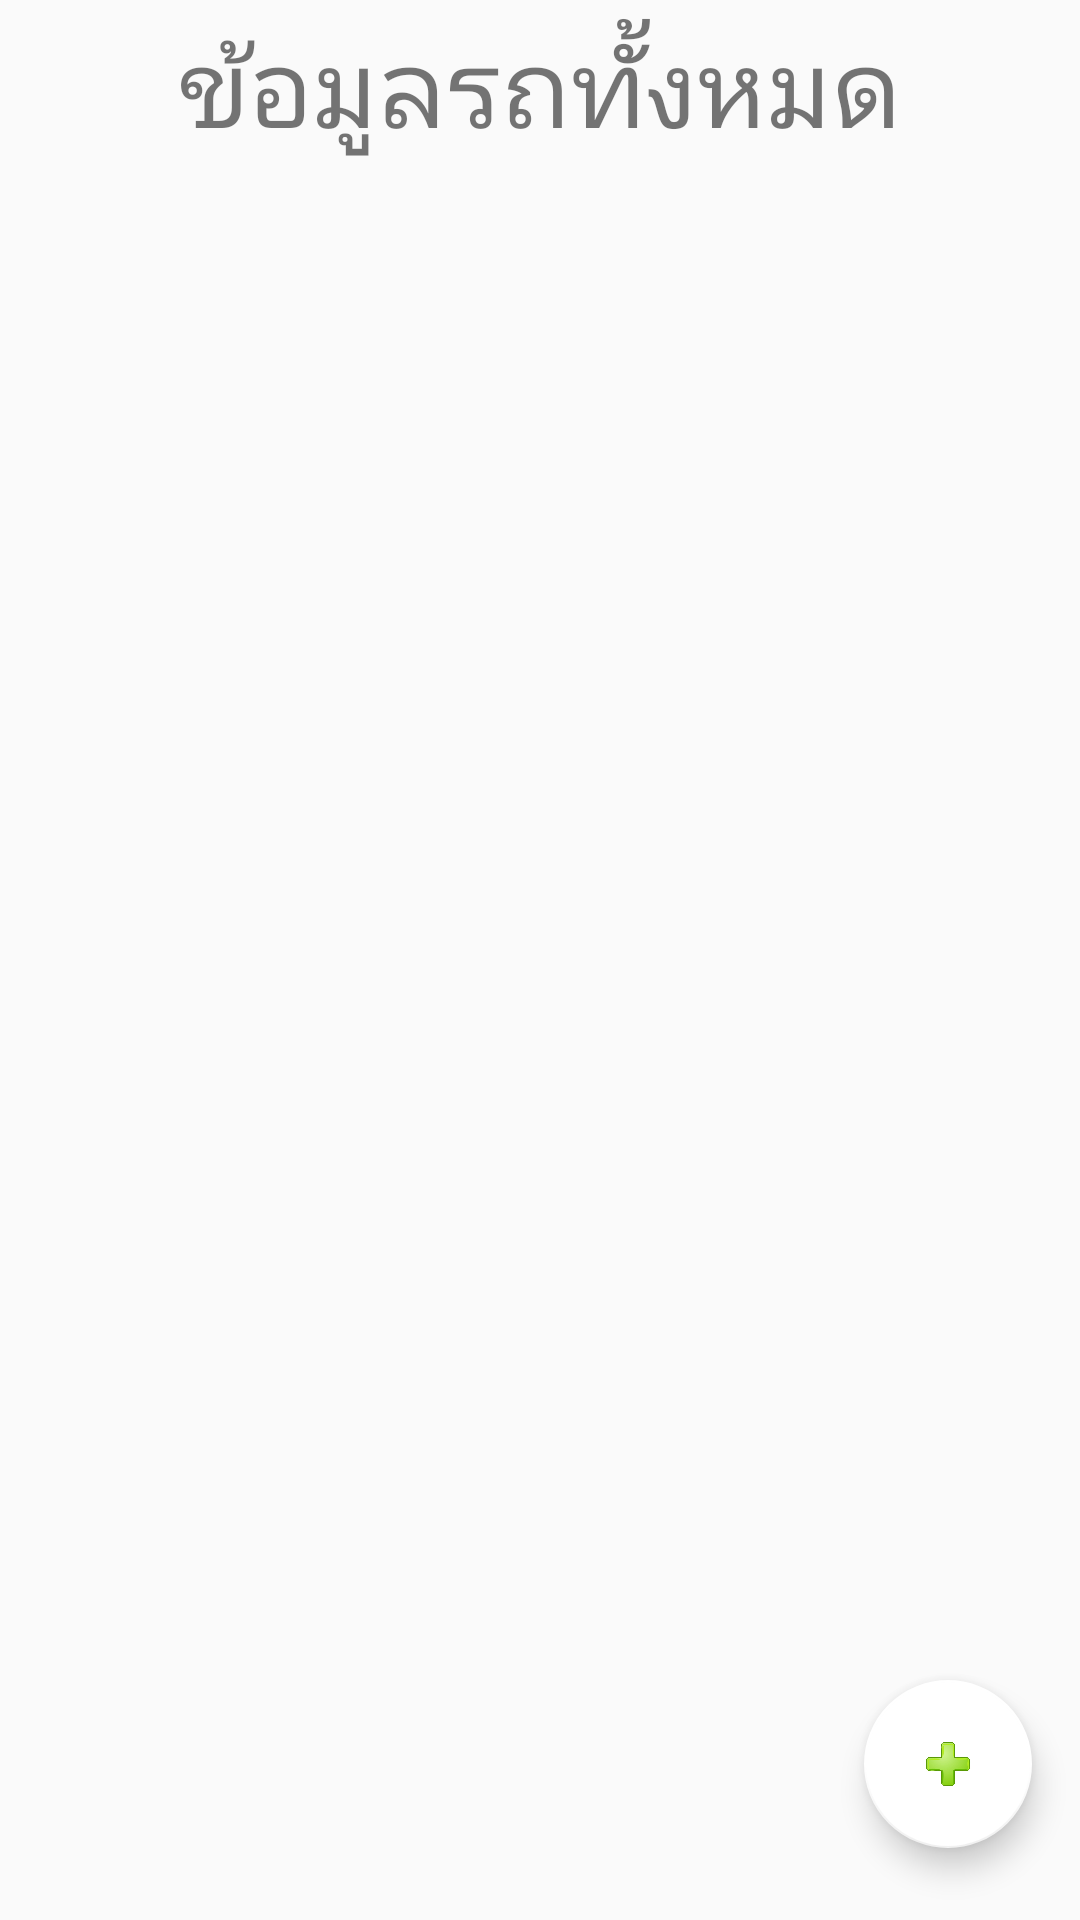

Named icons in this screenshot (1080px×1920px) and their bounding boxes, (x1, y1, x2, y2):
plus: (870, 1742, 1032, 1848)
